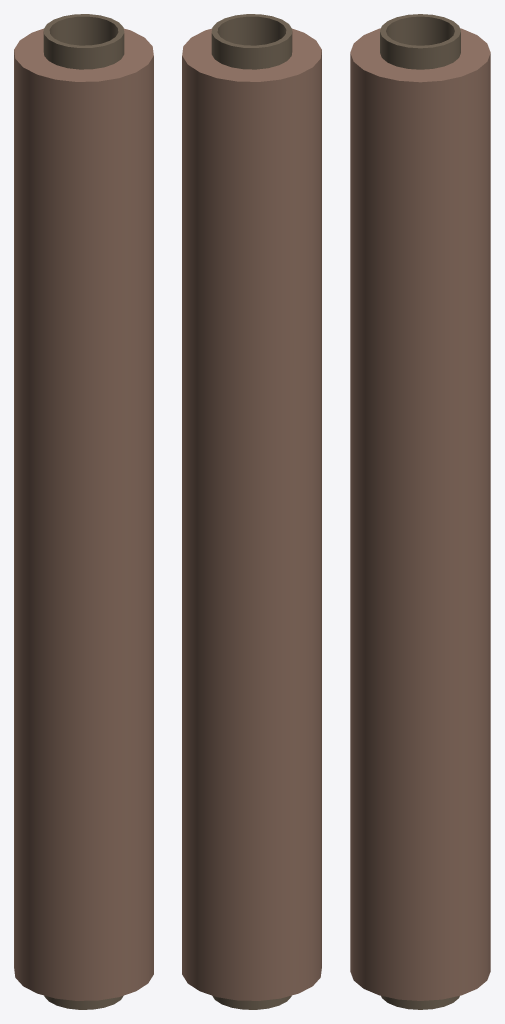
Rendered from RolGeneralDoek.fbx.
3 views of the same model, side by side, from view 1: azimuth 30°, elevation 25°; view 2: azimuth 150°, elevation 25°; view 3: azimuth 270°, elevation 25° (orthographic).
Parts seen in each view (by area): view 1: textielrol5; view 2: textielrol5; view 3: textielrol5.
Part boxes in pixels (x1=…): textielrol5: x1=14, y1=14, x2=153, y2=1009; textielrol5: x1=182, y1=14, x2=321, y2=1009; textielrol5: x1=350, y1=14, x2=490, y2=1009.
Bounding box in the file's own units: 0.2449 × 1.85 × 0.2449.
